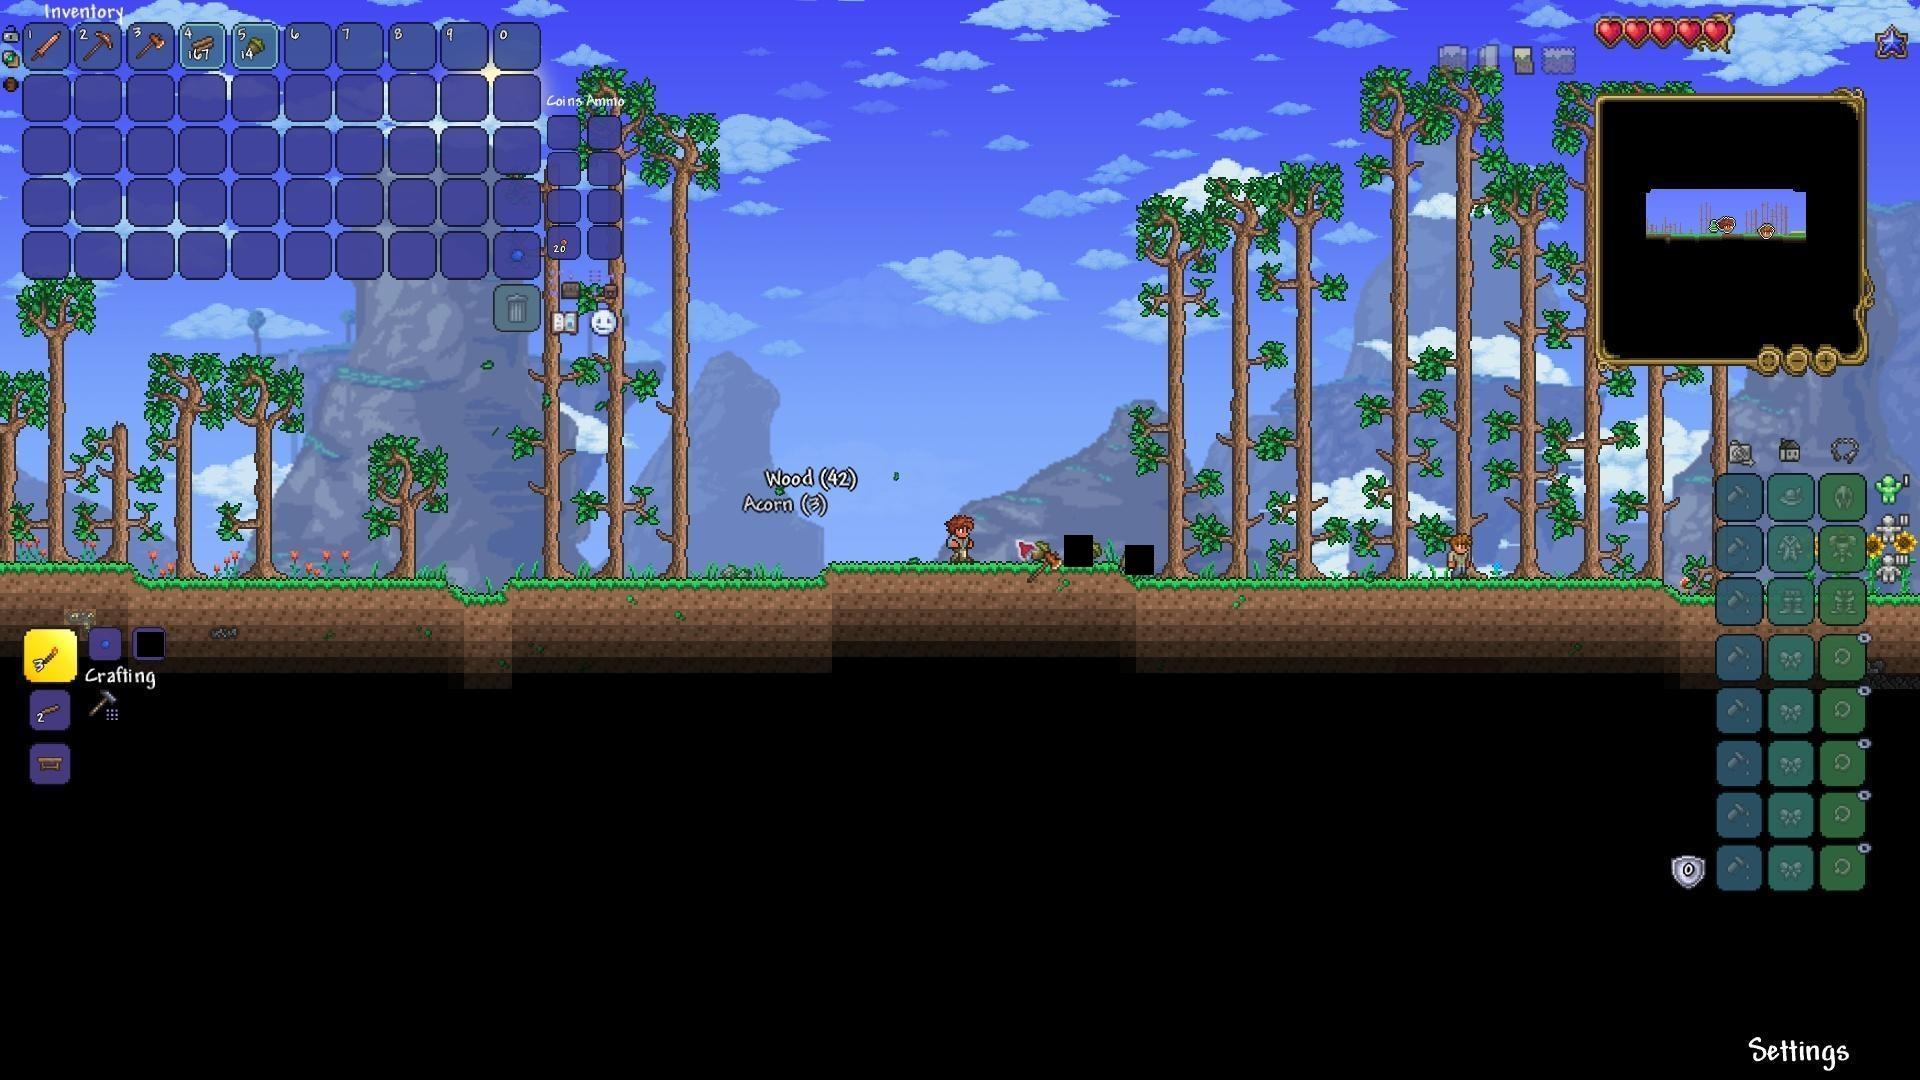wood: (189, 32, 219, 55)
workbench: (32, 750, 65, 774)
